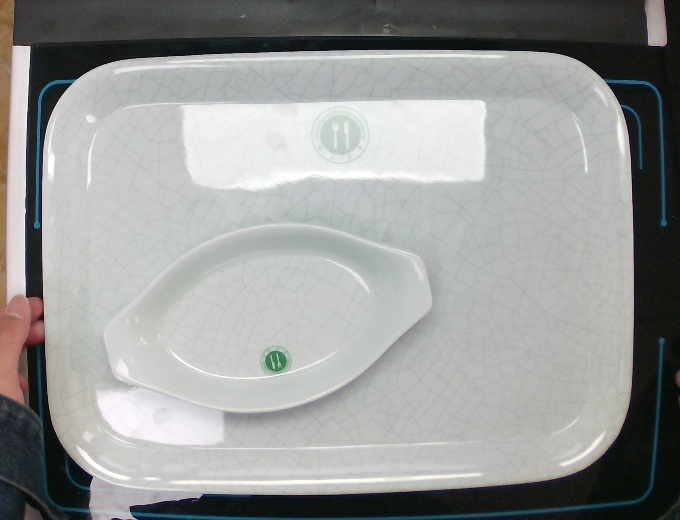JYsf-Yu_Pan: (97, 217, 436, 418)
